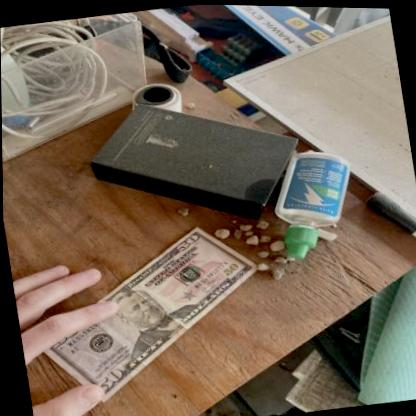dollar_front: (37, 226, 259, 401)
